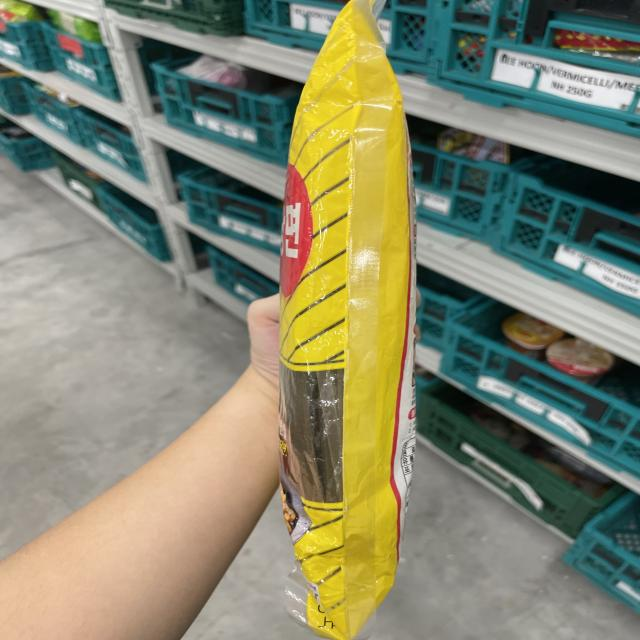object_name: (288, 59, 408, 606)
